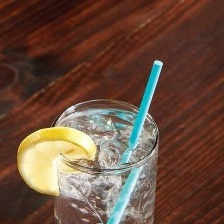drinking_straw: (102, 55, 167, 223)
glass: (45, 94, 163, 223)
